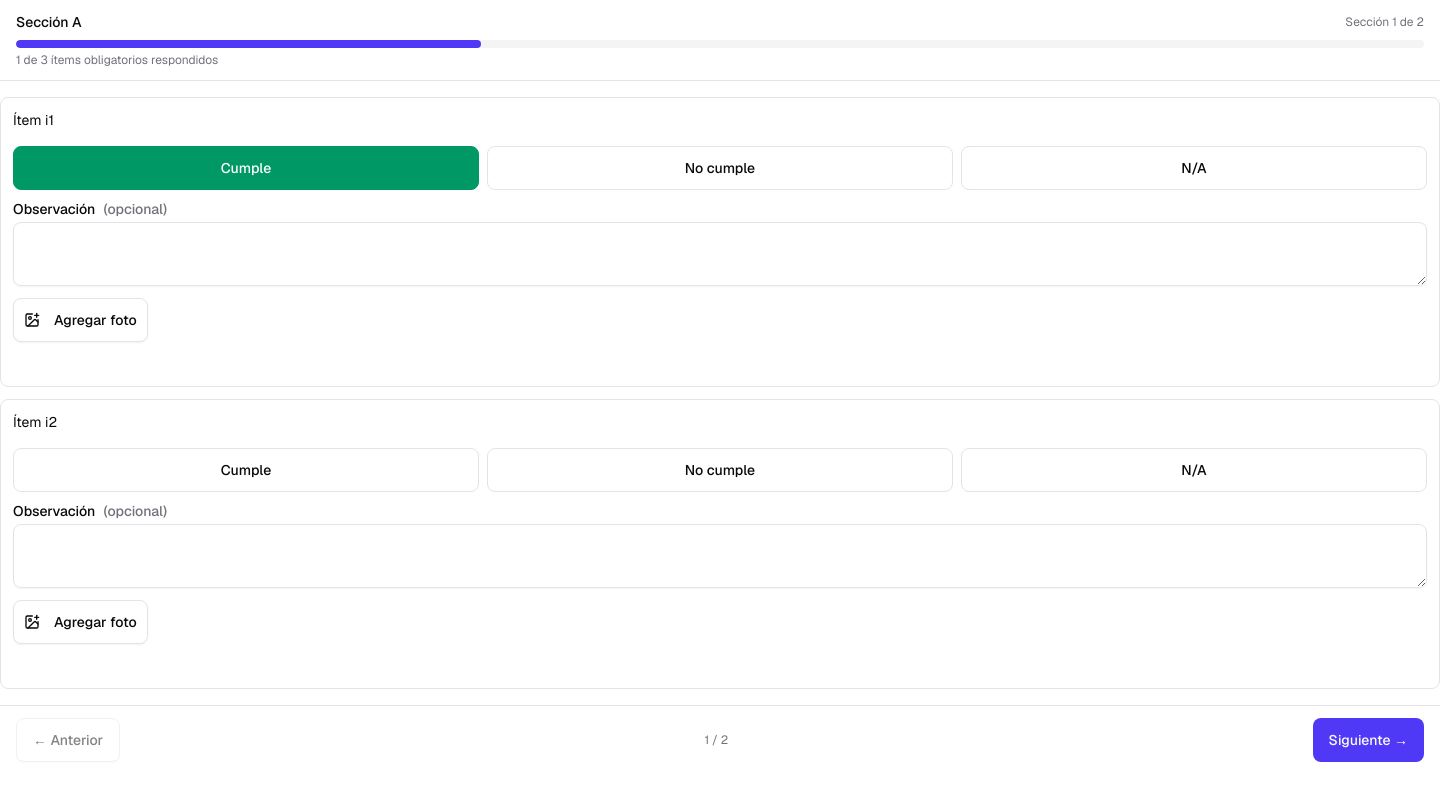
Test case: EjecucionRunner › Siguiente/Anterior navegan entre secciones
The width and height of the screenshot is (1440, 810).
Check: the text "Sección A" is shown, box [16,12,82,32]
Check: the text "Ítem i3" is not shown
Click the button "Siguiente →".
click(1368, 740)  # box [1313,718,1424,762]
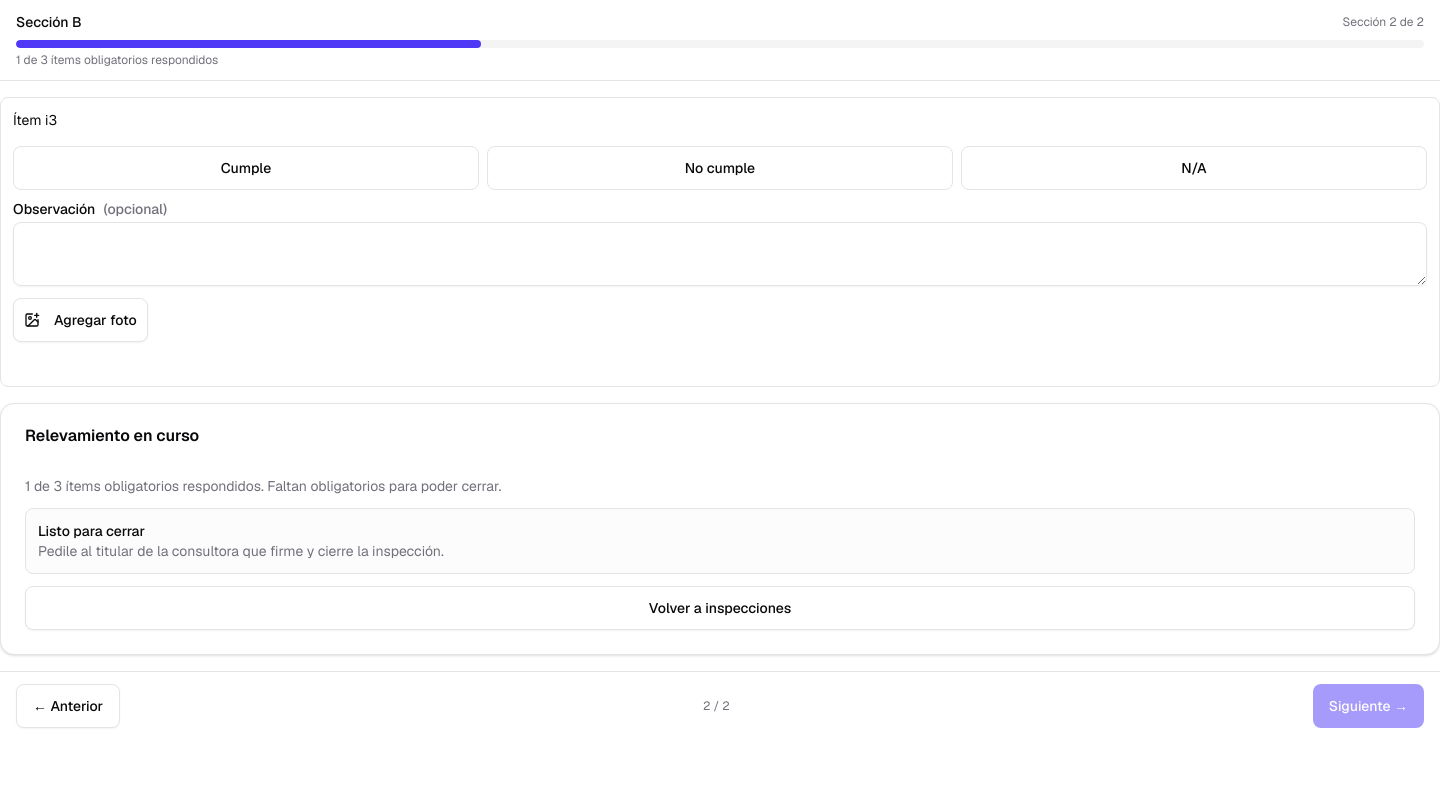
Check: the text "Ítem i3" is shown, box [13,111,57,129]
Click the button "← Anterior".
click(68, 706)  # box [16,684,120,728]
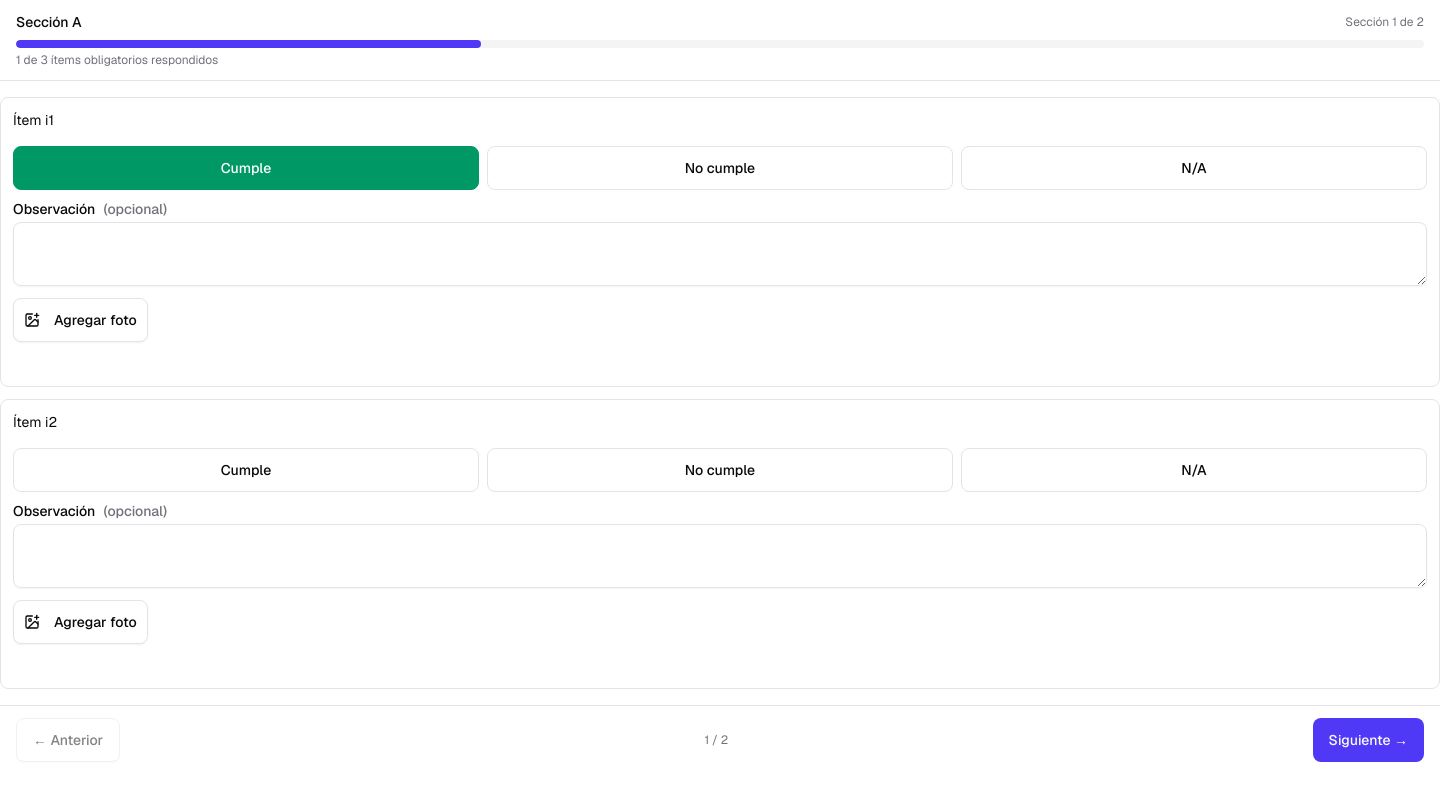
Check: the text "Ítem i1" is shown, box [13,111,54,129]
